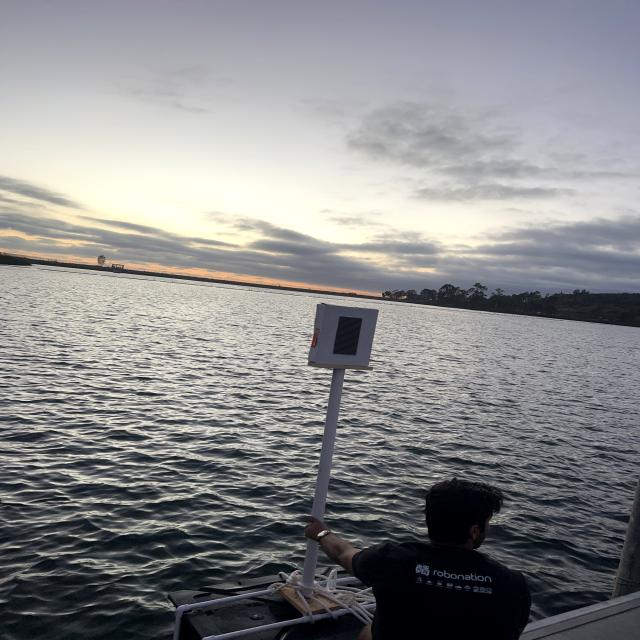led: (323, 308, 371, 370)
